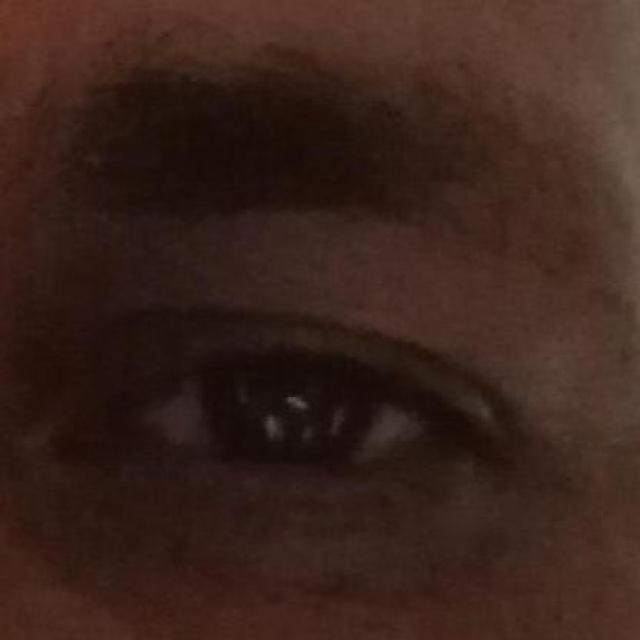awake: (109, 303, 456, 475)
